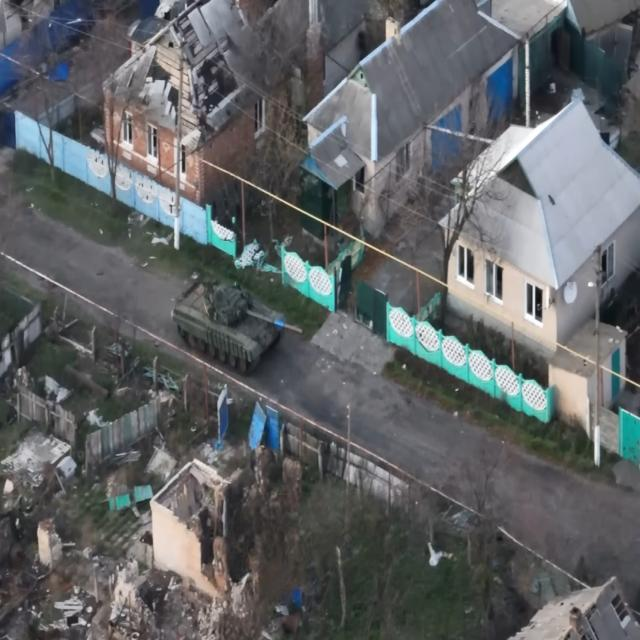MBT: (170, 274, 306, 382)
